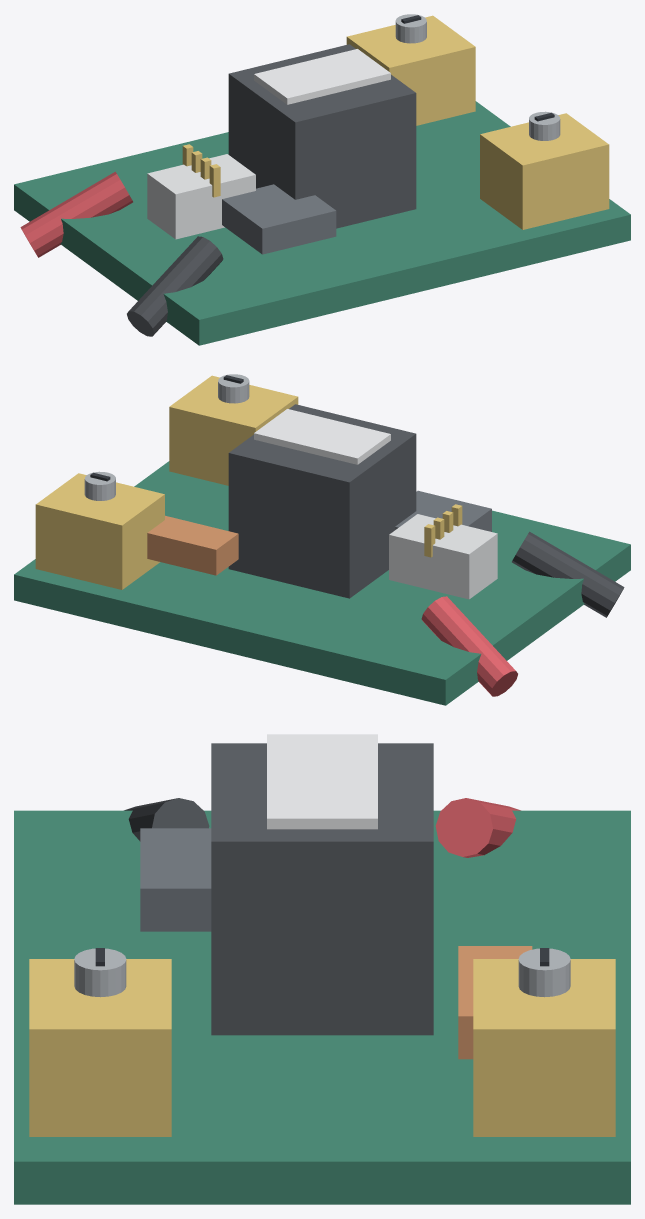
File: power_160a.glb
The picture shows the model from 3 angles, top to bottom: view 1: azimuth 30°, elevation 25°; view 2: azimuth 150°, elevation 25°; view 3: azimuth 270°, elevation 25°; orthographic projection. The views are drawn at different scales.
Parts seen in each view (by area): view 1: pcb, hall_sensor, terminal_1, terminal_0, telemetry_socket, processor, label, power_black/seg_0, power_red/seg_0, terminal_screw_0, terminal_screw_1; view 2: pcb, hall_sensor, terminal_0, terminal_1, telemetry_socket, label, shunt, power_red/seg_0, power_black/seg_0, processor, terminal_screw_1, terminal_screw_0; view 3: pcb, hall_sensor, terminal_0, terminal_1, label, processor, power_red/seg_0, shunt, terminal_screw_0, terminal_screw_1, power_black/seg_0.
Boxes of the visible parts, left/top/right/bottom form: pcb: left=14, top=101, right=630, bottom=345; hall_sensor: left=228, top=44, right=416, bottom=228; terminal_1: left=480, top=113, right=609, bottom=229; terminal_0: left=346, top=15, right=475, bottom=125; telemetry_socket: left=147, top=154, right=255, bottom=239; processor: left=222, top=184, right=336, bottom=254; label: left=254, top=49, right=390, bottom=104; power_black/seg_0: left=127, top=236, right=223, bottom=336; power_red/seg_0: left=20, top=171, right=132, bottom=257; terminal_screw_0: left=395, top=14, right=426, bottom=43; terminal_screw_1: left=529, top=111, right=560, bottom=140; pcb: left=14, top=461, right=630, bottom=705; hall_sensor: left=228, top=404, right=416, bottom=598; terminal_0: left=35, top=473, right=164, bottom=589; terminal_1: left=169, top=375, right=298, bottom=485; telemetry_socket: left=389, top=514, right=497, bottom=599; label: left=254, top=409, right=390, bottom=464; shunt: left=147, top=515, right=238, bottom=575; power_red/seg_0: left=421, top=596, right=517, bottom=696; power_black/seg_0: left=512, top=531, right=624, bottom=617; processor: left=395, top=490, right=491, bottom=531; terminal_screw_1: left=218, top=374, right=249, bottom=403; terminal_screw_0: left=84, top=471, right=115, bottom=500; pcb: left=14, top=810, right=630, bottom=1204; hall_sensor: left=211, top=743, right=433, bottom=1035; terminal_0: left=473, top=959, right=615, bottom=1136; terminal_1: left=29, top=959, right=171, bottom=1136; label: left=267, top=734, right=377, bottom=829; processor: left=140, top=828, right=211, bottom=931; power_red/seg_0: left=435, top=798, right=520, bottom=857; shunt: left=458, top=946, right=532, bottom=1059; terminal_screw_0: left=518, top=948, right=570, bottom=997; terminal_screw_1: left=74, top=948, right=126, bottom=997; power_black/seg_0: left=124, top=798, right=209, bottom=841.
Bounding box in the file's own units: 0.0748 × 0.0257 × 0.052.
